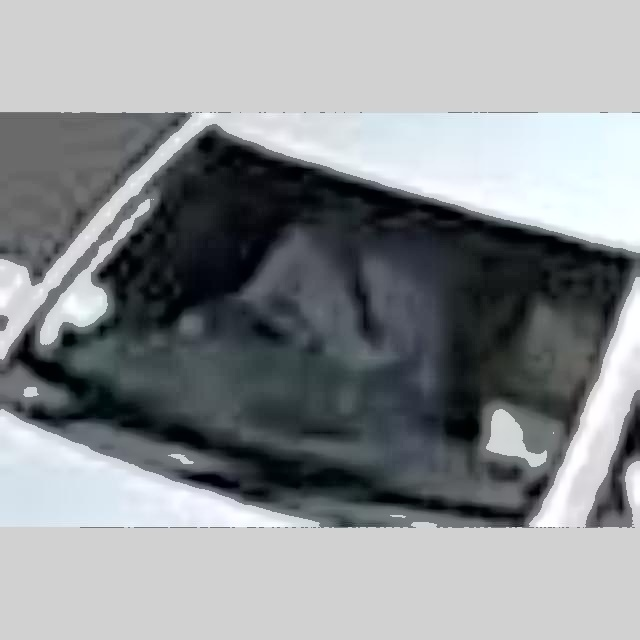pakai: (241, 181, 452, 422)
